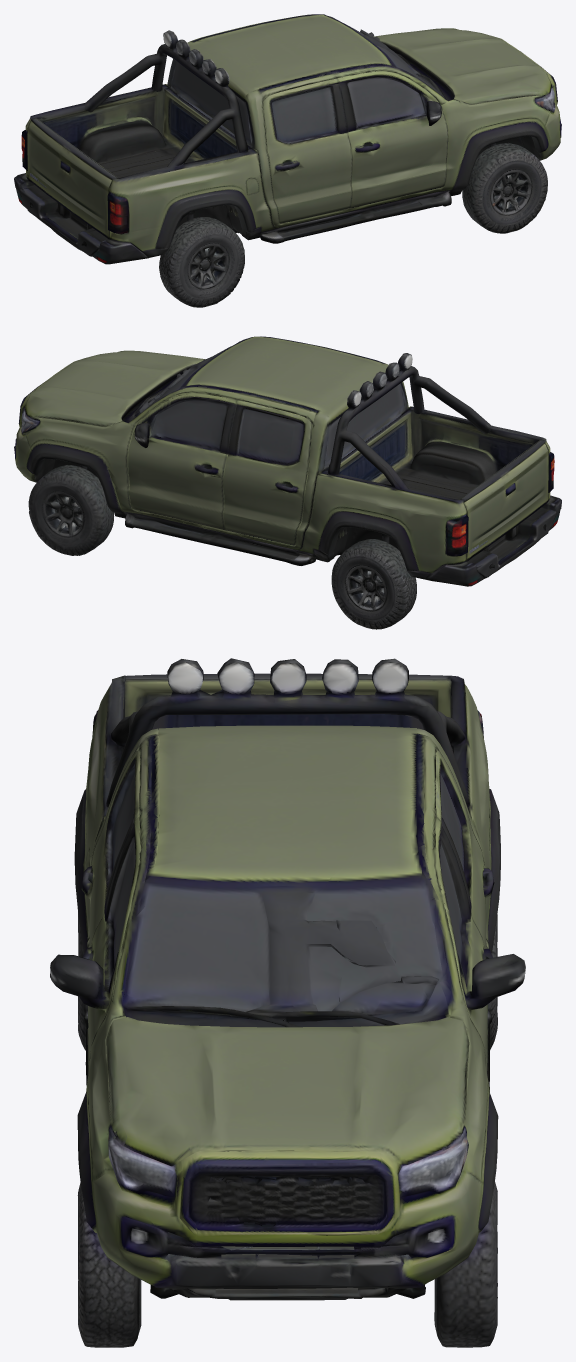
File: car_pickup.glb
3 renders of one model, top to bottom at view 1: azimuth 30°, elevation 25°; view 2: azimuth 150°, elevation 25°; view 3: azimuth 270°, elevation 25°, orthographic. The views are drawn at different scales.
Parts seen in each view (by area): view 1: tripo_node_05b9635d-440d-46cd-907c-b7ca8771e47f; view 2: tripo_node_05b9635d-440d-46cd-907c-b7ca8771e47f; view 3: tripo_node_05b9635d-440d-46cd-907c-b7ca8771e47f.
Part boxes in pixels (x1,y1,x2,y2): tripo_node_05b9635d-440d-46cd-907c-b7ca8771e47f: [14, 14, 561, 307]; tripo_node_05b9635d-440d-46cd-907c-b7ca8771e47f: [14, 336, 561, 629]; tripo_node_05b9635d-440d-46cd-907c-b7ca8771e47f: [50, 658, 525, 1347].
Bounding box in the file's own units: 0.9872 × 0.4092 × 0.4213.
Materials: 1 (1 with a texture image).
